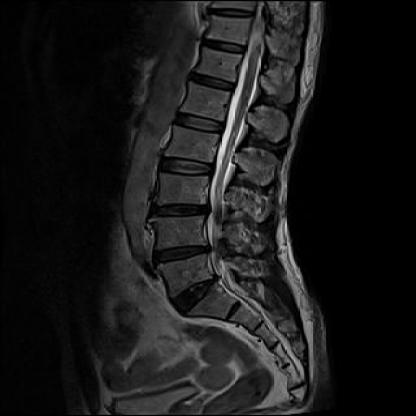Degenerative Disc Diseaserotation: (166, 281, 232, 311)
Disc Bulgerotation: (145, 196, 215, 224), (146, 242, 216, 270)
